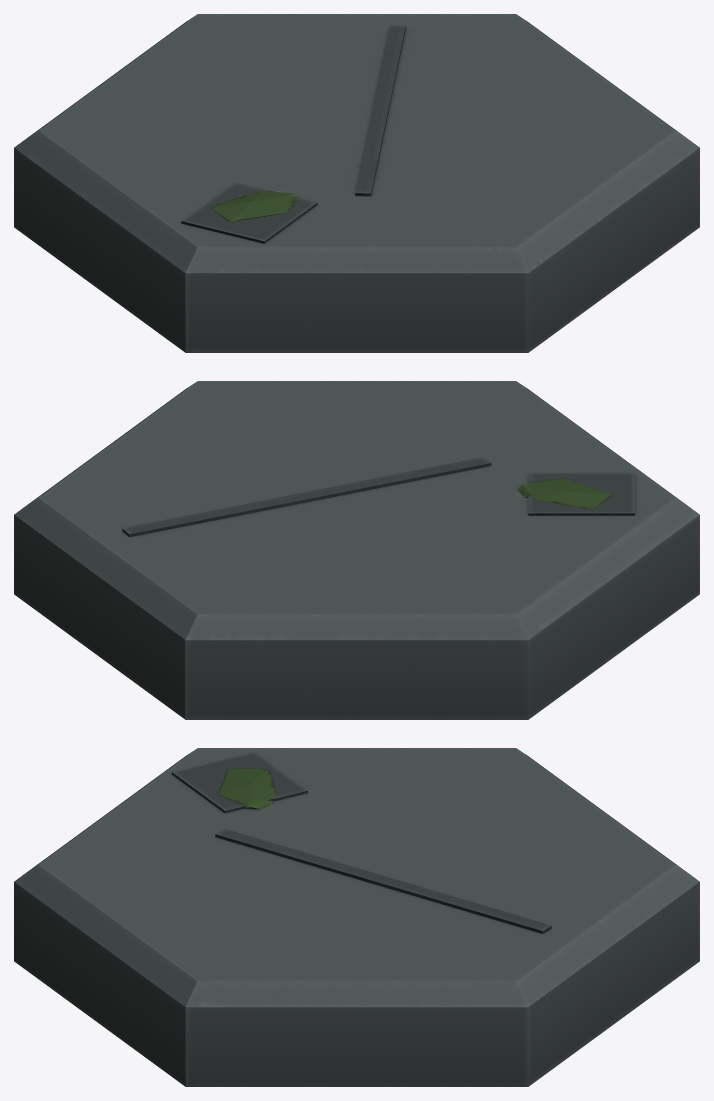
File: tile_hex_stone_e.glb
3 views of the same model, one above another, from view 1: azimuth 30°, elevation 25°; view 2: azimuth 150°, elevation 25°; view 3: azimuth 270°, elevation 25° (orthographic).
Parts seen in each view (by area): view 1: tile_hex_stone_e; view 2: tile_hex_stone_e; view 3: tile_hex_stone_e.
Part boxes in pixels (bbox=[...]): tile_hex_stone_e: bbox=[14, 14, 699, 352]; tile_hex_stone_e: bbox=[14, 381, 699, 719]; tile_hex_stone_e: bbox=[14, 748, 699, 1086].
Bounding box in the file's own units: 1.12 × 0.2123 × 1.29.
1 material, 1 textured.
